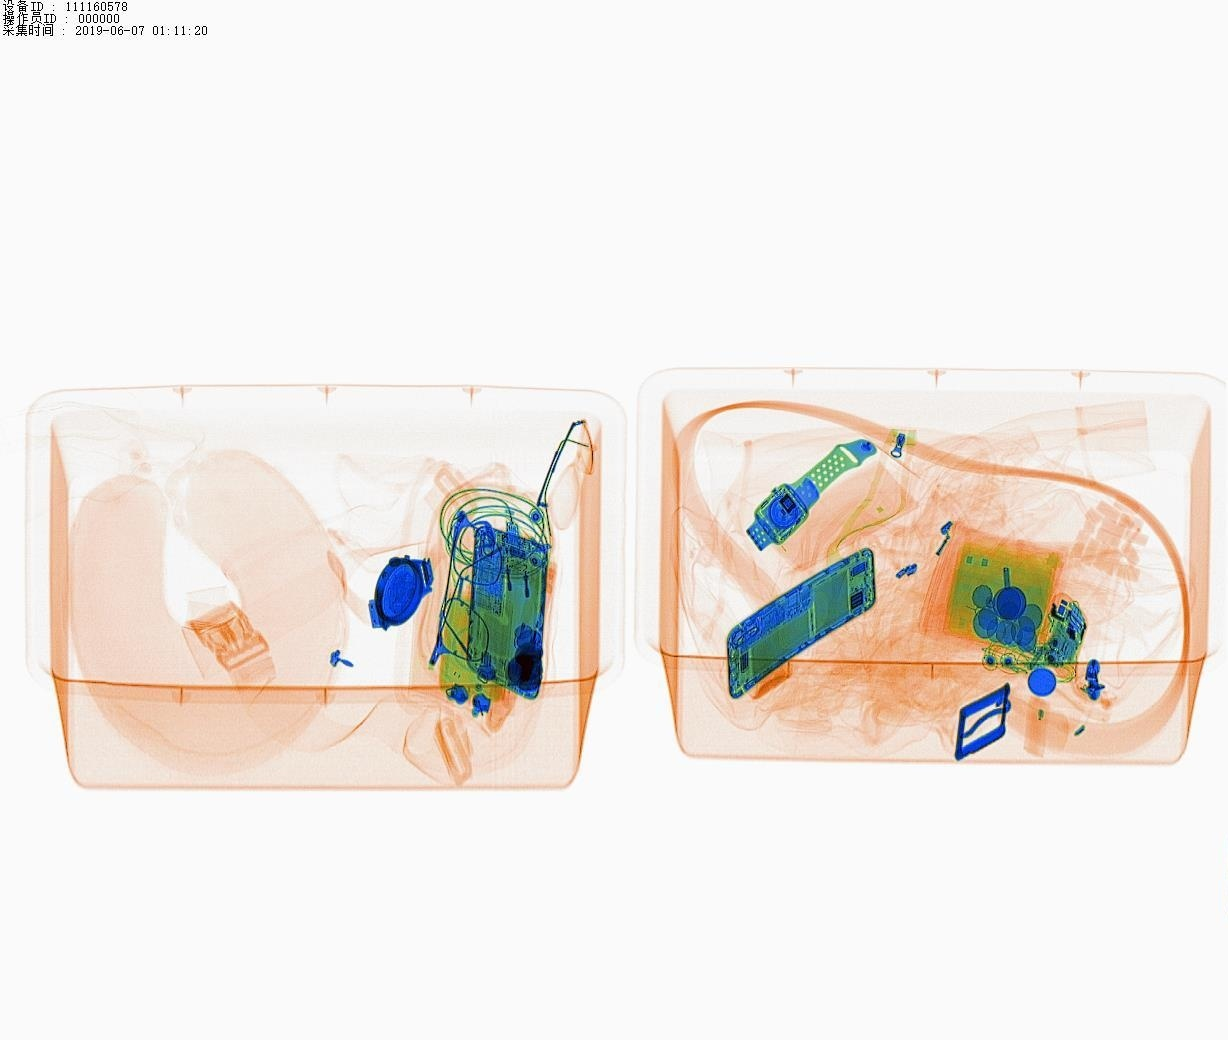NonmetallicFire: (509, 575, 559, 664)
